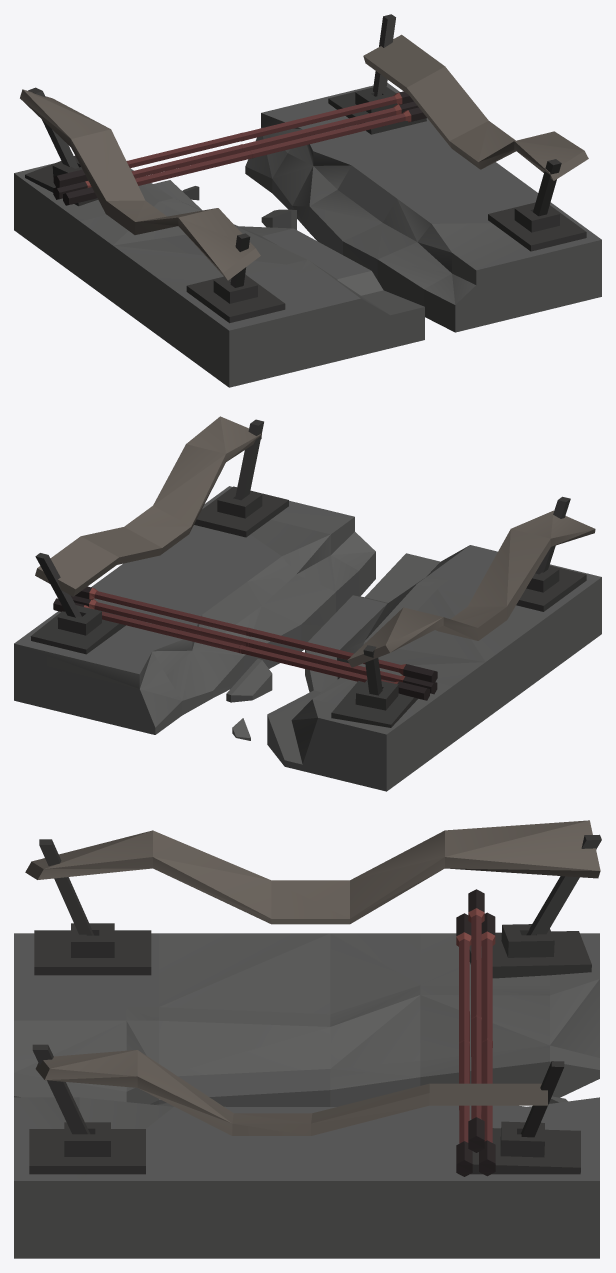
File: pipe-place.gltf
3 renders of one model, top to bottom at view 1: azimuth 30°, elevation 25°; view 2: azimuth 150°, elevation 25°; view 3: azimuth 270°, elevation 25°, orthographic. The views are drawn at different scales.
Parts seen in each view (by area): view 1: zniszczona_podstawa; view 2: zniszczona_podstawa; view 3: zniszczona_podstawa.
Boxes of the visible parts, x1=… form: zniszczona_podstawa: x1=14, y1=14, x2=601, y2=387; zniszczona_podstawa: x1=14, y1=416, x2=601, y2=791; zniszczona_podstawa: x1=14, y1=820, x2=601, y2=1258.
Bounding box in the file's own units: 2.01 × 0.7303 × 2.01.
1 material, 1 textured.
